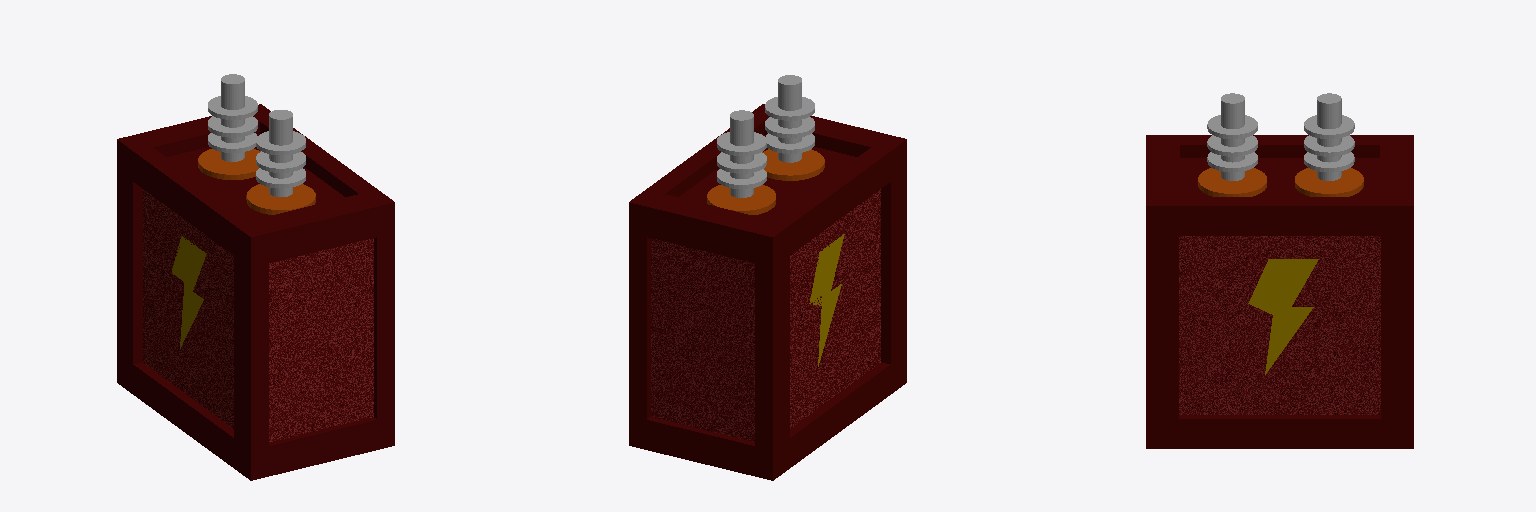
3 views of the same model, side by side, from view 1: azimuth 30°, elevation 25°; view 2: azimuth 150°, elevation 25°; view 3: azimuth 270°, elevation 25° (orthographic).
Visible parts, largest first — view 1: Cube; view 2: Cube; view 3: Cube.
Part boxes in pixels (x1,y1,x2,y2): Cube: (117,74,394,480); Cube: (629,75,906,480); Cube: (1146,93,1413,448).
Bounding box in the file's own units: 4.86 × 10.17 × 7.82.
5 materials, 1 textured.